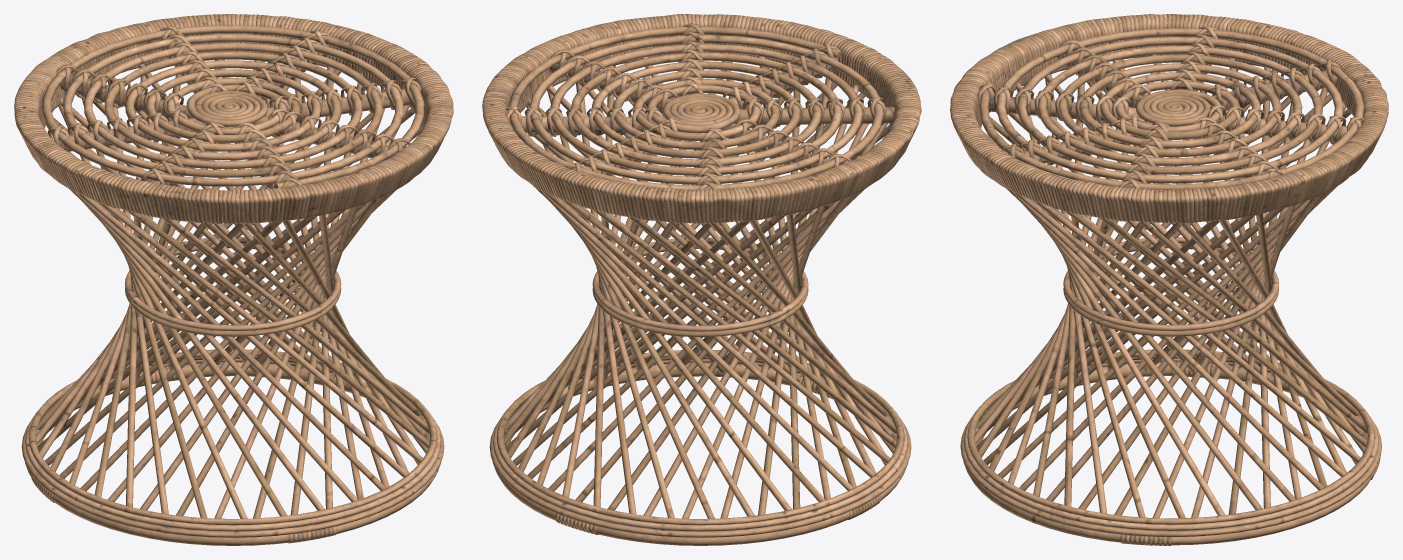
3 renders of one model, left to right at view 1: azimuth 30°, elevation 25°; view 2: azimuth 150°, elevation 25°; view 3: azimuth 270°, elevation 25°, orthographic.
Parts seen in each view (by area): view 1: Helix001; view 2: Helix001; view 3: Helix001.
Boxes of the visible parts, box(x1,y1,x2,y2) form: Helix001: box(14, 14, 453, 545); Helix001: box(482, 14, 921, 545); Helix001: box(950, 14, 1388, 545).
Bounding box in the file's own units: 0.5 × 0.45 × 0.5.
1 material, 1 textured.
